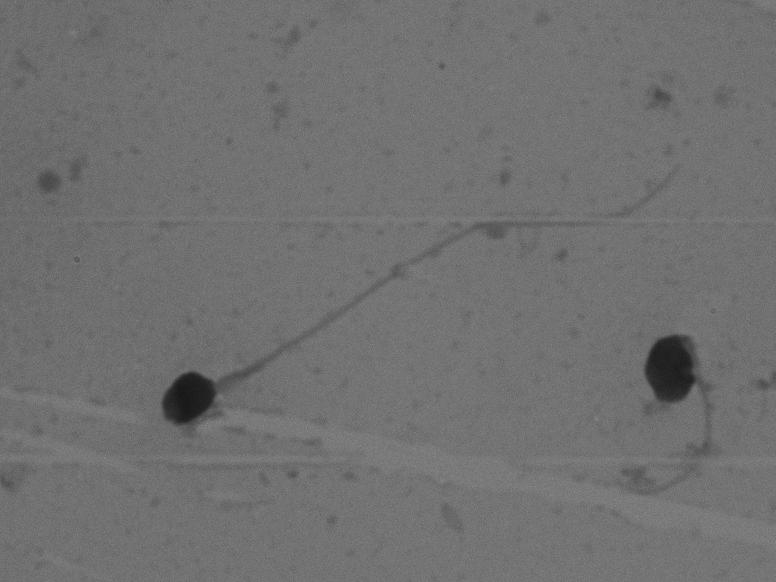Abnormal: (126, 132, 735, 456), (585, 315, 747, 522)
